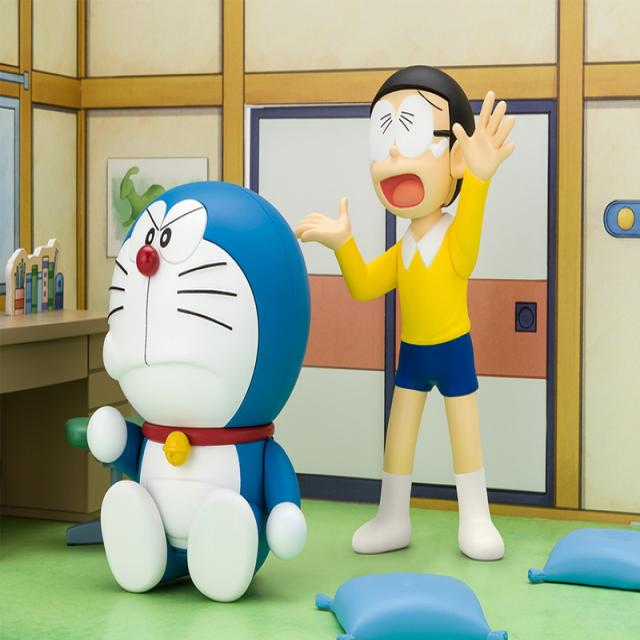doraemon: (94, 167, 326, 521)
nobita: (356, 51, 514, 300)
